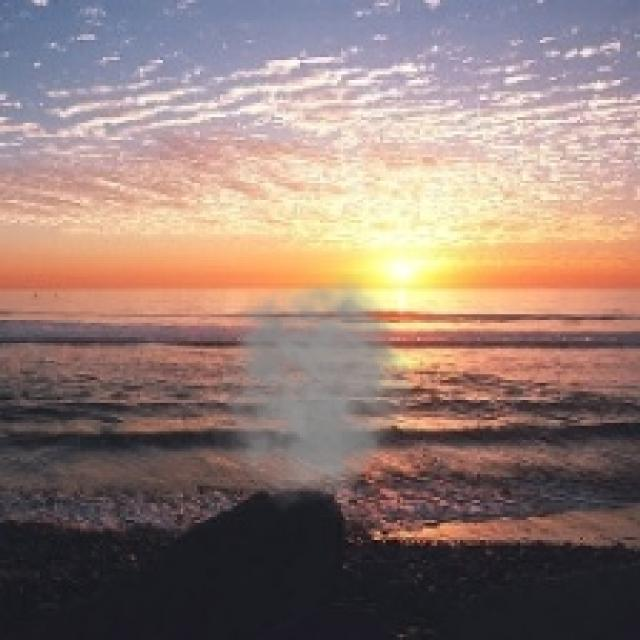smoke: (200, 274, 414, 517)
